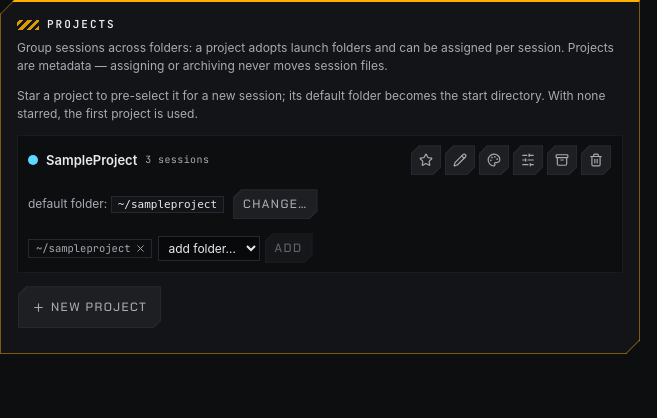
Test: a 409 folder conflict surfaces the server's detail string inline
The width and height of the screenshot is (657, 418).
Expected: the text "SampleProject" is shown, [46,151,137,169]
Select "~/free" in the dropdown named "Adopt a folder into SampleProject": (208, 248) [158,236,260,261]
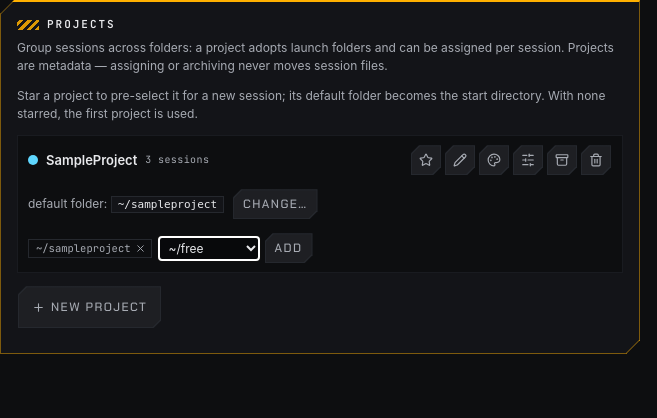
Click the button "Add": (288, 248) [264,232,314,264]
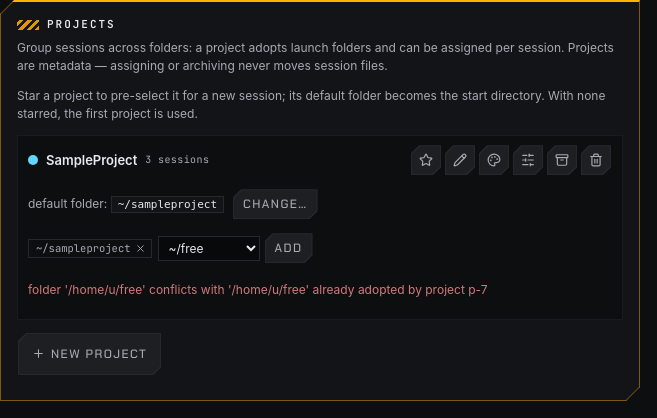
Now the text "already adopted by project p-7" is shown, box [28,282,488,297]
